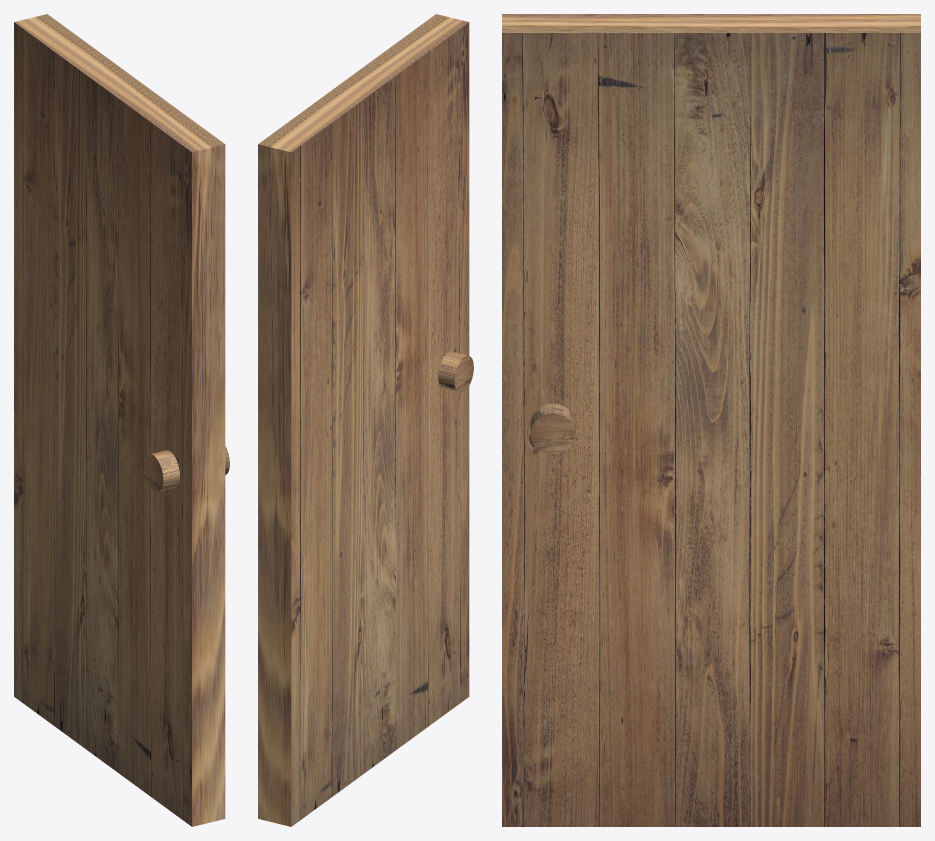
File: doorWing.fbx
The picture shows the model from 3 angles, left to right: view 1: azimuth 30°, elevation 25°; view 2: azimuth 150°, elevation 25°; view 3: azimuth 270°, elevation 25°; orthographic projection. The views are drawn at different scales.
Parts seen in each view (by area): view 1: DoorWing; view 2: DoorWing; view 3: DoorWing.
Boxes of the visible parts, <box> form: DoorWing: <box>14,14,229,826</box>; DoorWing: <box>258,14,473,826</box>; DoorWing: <box>502,14,920,826</box>.
Bounding box in the file's own units: 20 × 194 × 92.63.
